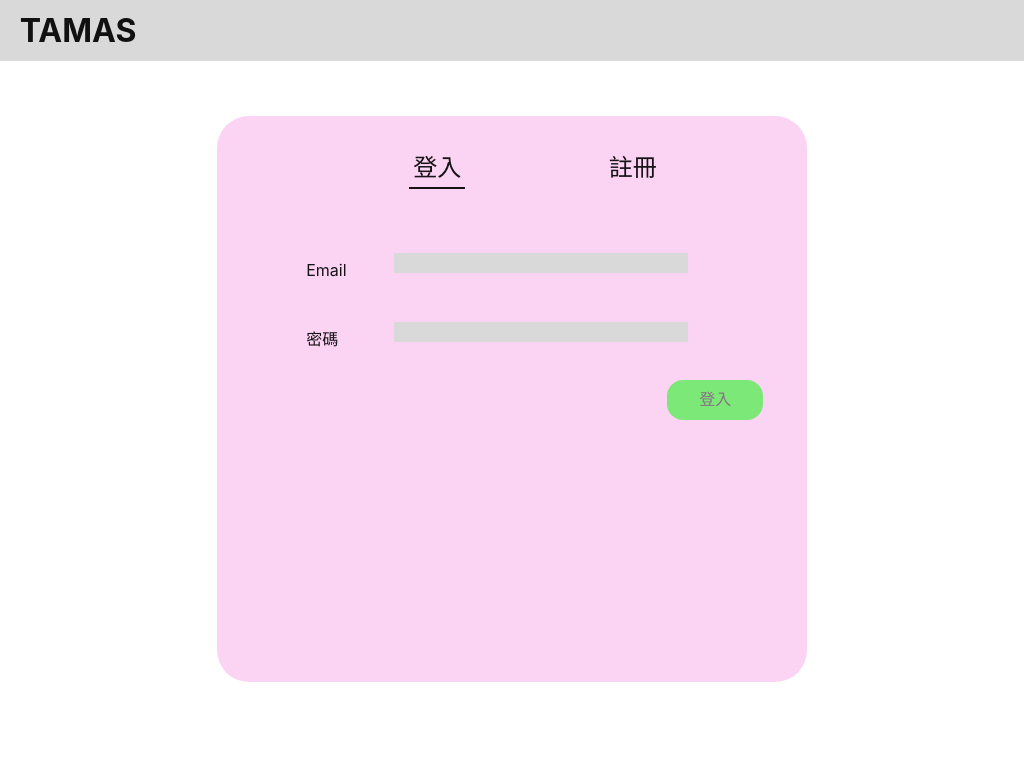
Test case: App session flow › saves the returned session and loads products after login
The width and height of the screenshot is (1024, 768).
Type "user@example.com" into the field labelled "Email".
click(541, 263); type("user@example.com")  # box 394,253 -> 688,273
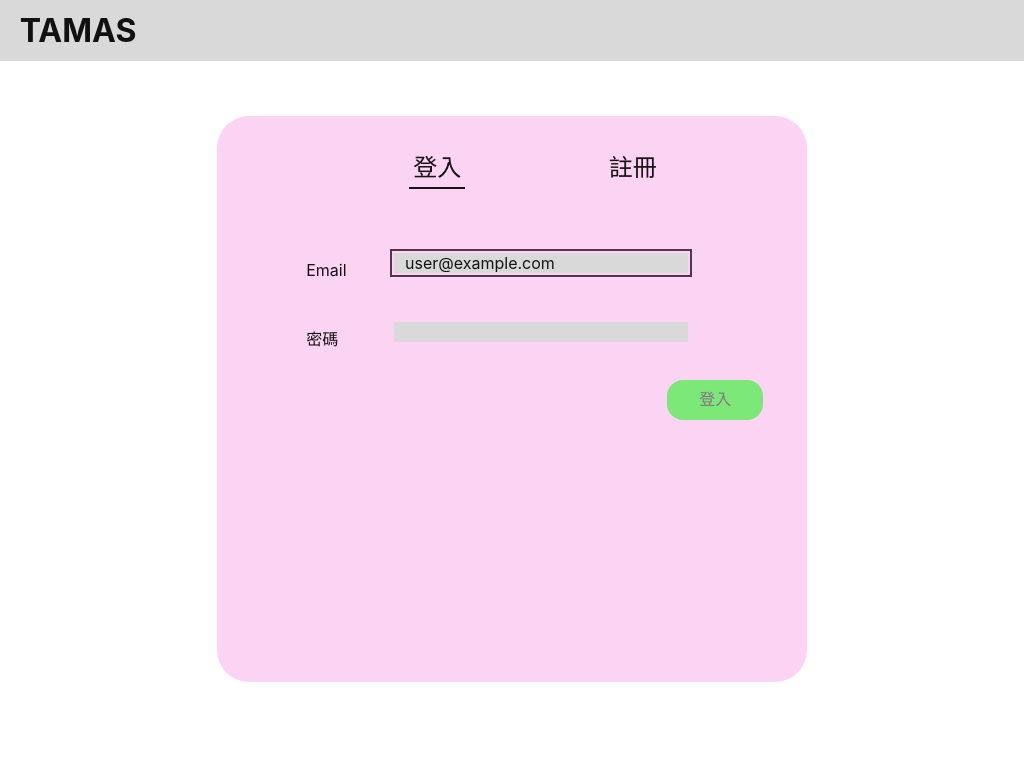
Type "Password123" into the password field labelled "密碼".
click(541, 332); type("Password123")  # box 394,322 -> 688,342
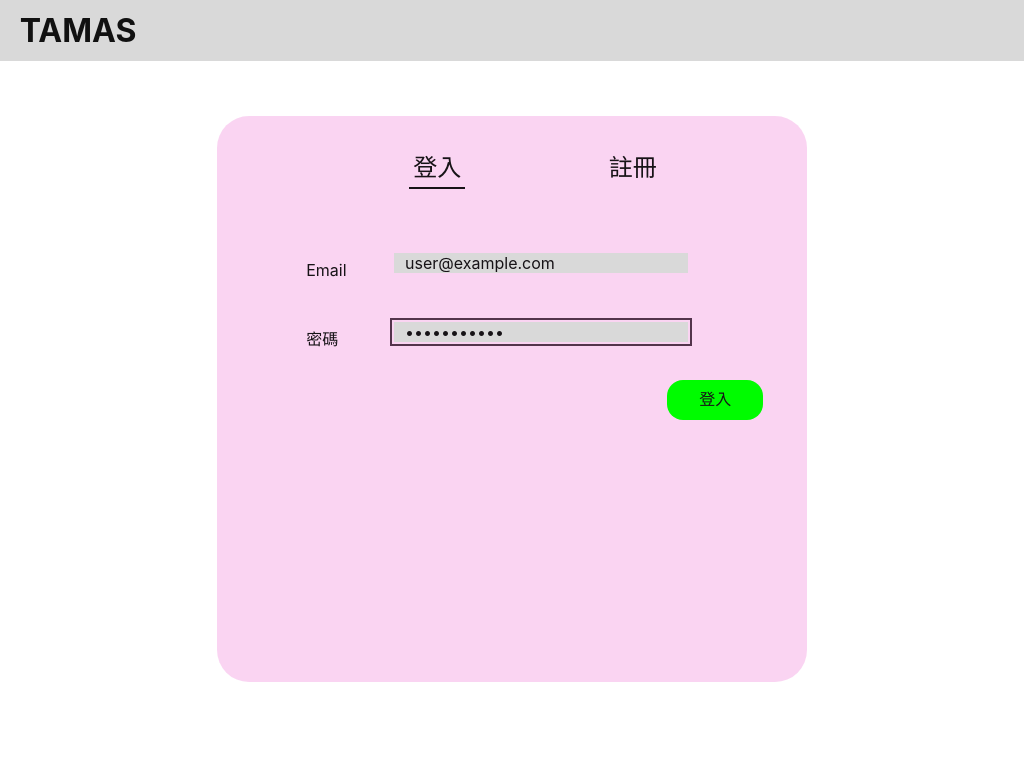
Click the 2nd button "登入".
click(715, 400)  # box 668,380 -> 763,420
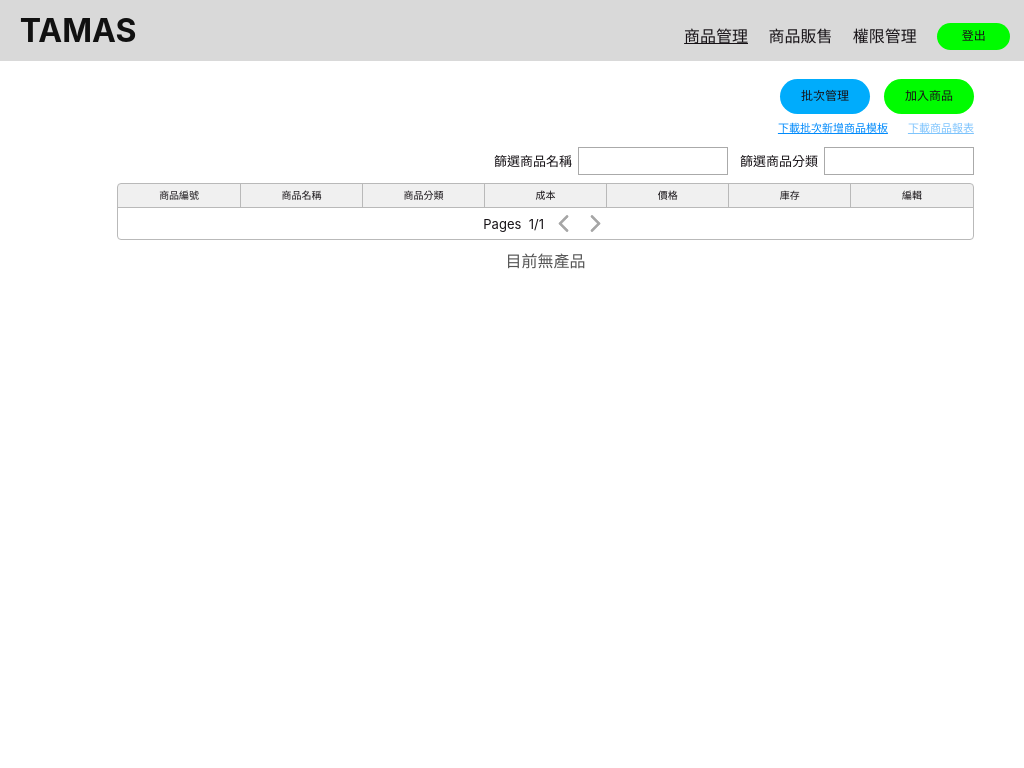
Expected: the text "目前無產品" is shown, 506,251 -> 586,271
